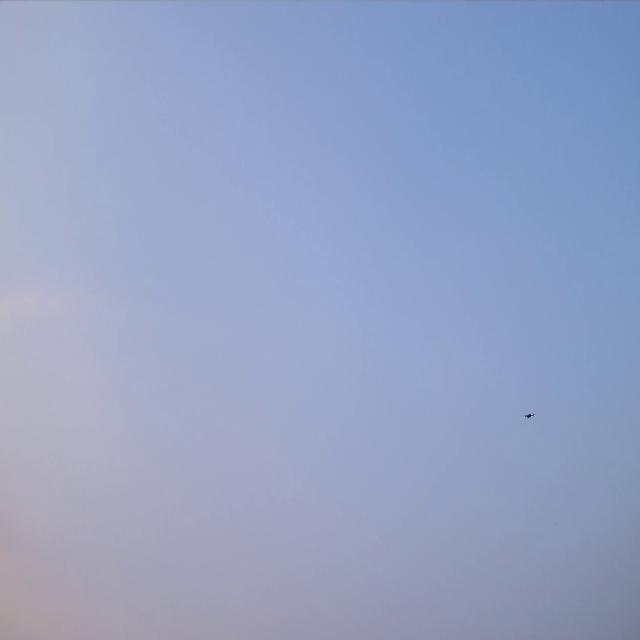UAV: (524, 413, 533, 419)
